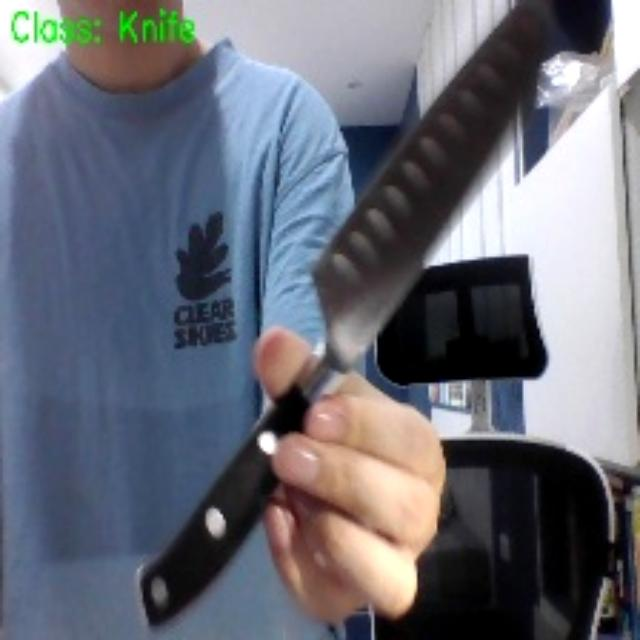Knife: (140, 0, 551, 625)
